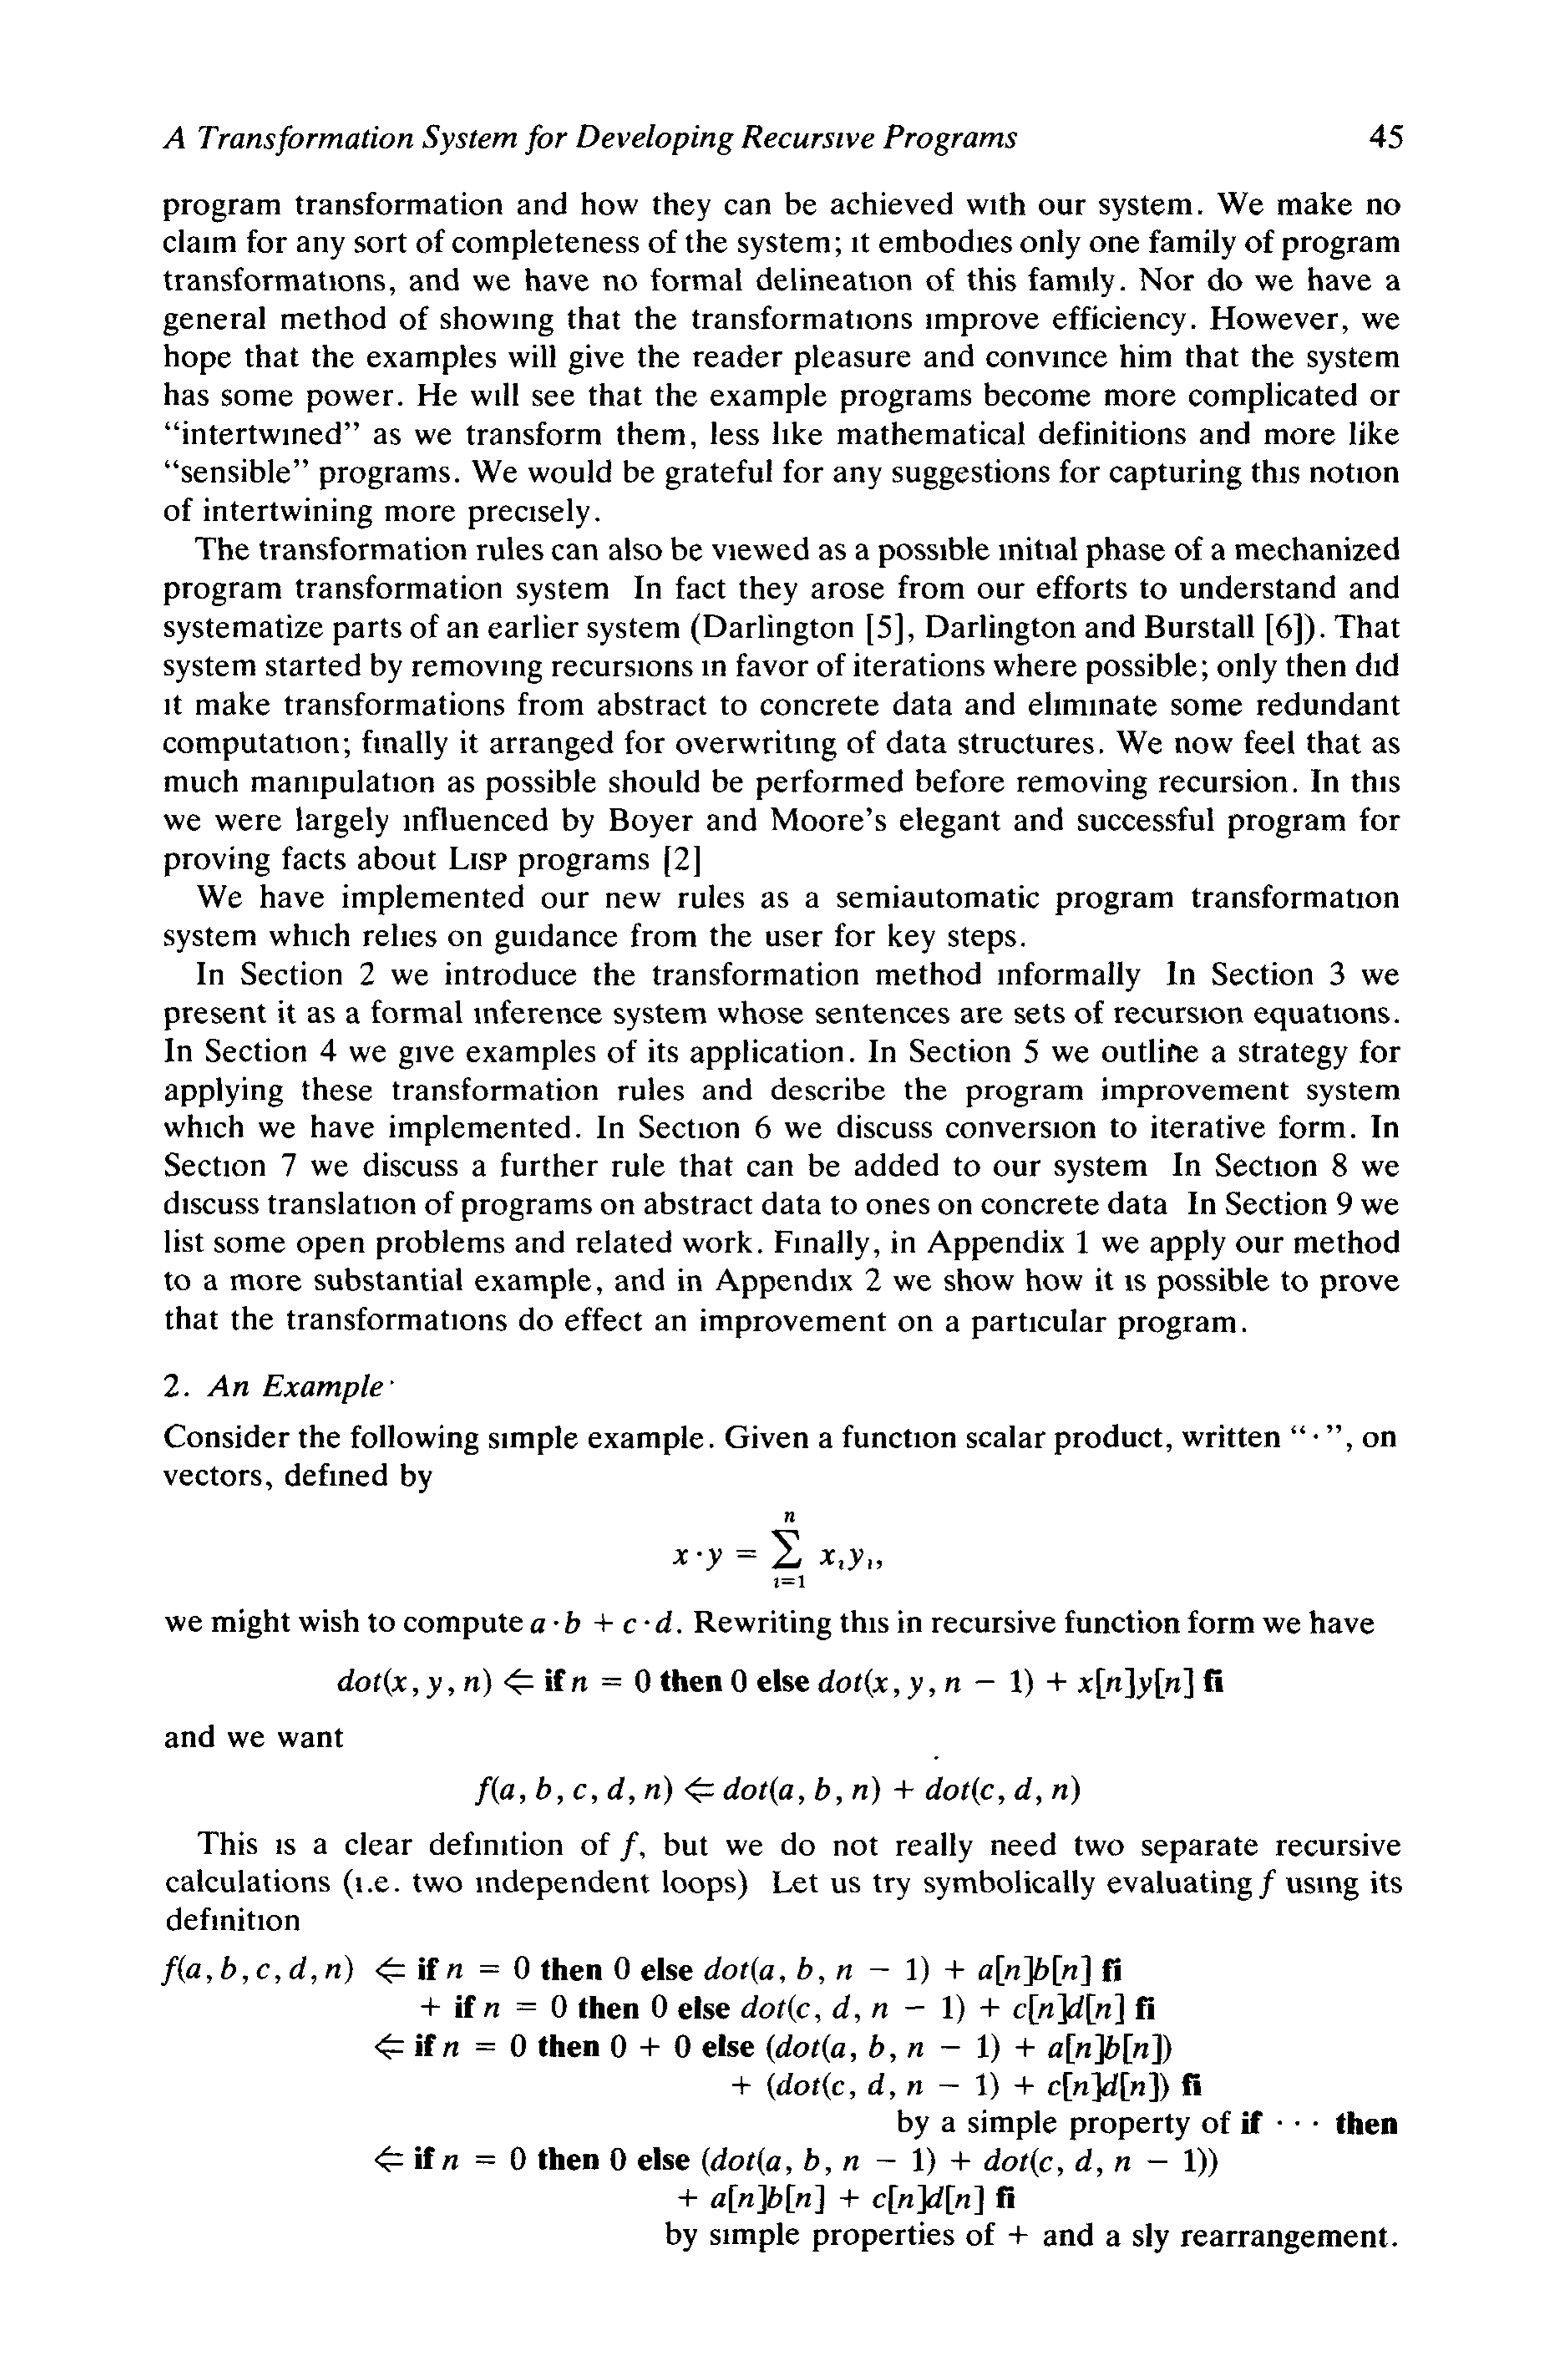maths: (475, 1775, 1080, 1805), (673, 1512, 872, 1588), (732, 2072, 1169, 2102), (818, 1667, 1194, 1700), (704, 1955, 1091, 1987), (741, 1994, 1124, 2025), (678, 2184, 984, 2216), (907, 2034, 1171, 2065), (161, 1955, 405, 1985), (844, 2148, 1063, 2177), (337, 1667, 533, 1699), (530, 1609, 673, 1634), (1115, 2148, 1218, 2177), (767, 2034, 856, 2064), (703, 2148, 792, 2176), (442, 2146, 526, 2170), (447, 1955, 530, 1980), (572, 1669, 650, 1693), (612, 2034, 690, 2058), (484, 1996, 566, 2018), (444, 2034, 526, 2057), (1075, 2148, 1103, 2177), (869, 2034, 897, 2062), (376, 2146, 404, 2172), (804, 2148, 830, 2176), (376, 2034, 404, 2058), (620, 1831, 638, 1861), (1258, 1870, 1276, 1899), (731, 1669, 746, 1693), (652, 1994, 668, 2018), (421, 1997, 440, 2017), (610, 2148, 626, 2170), (1008, 2226, 1028, 2244), (615, 1957, 629, 1980), (1278, 2120, 1318, 2125), (1313, 1435, 1318, 1438)
